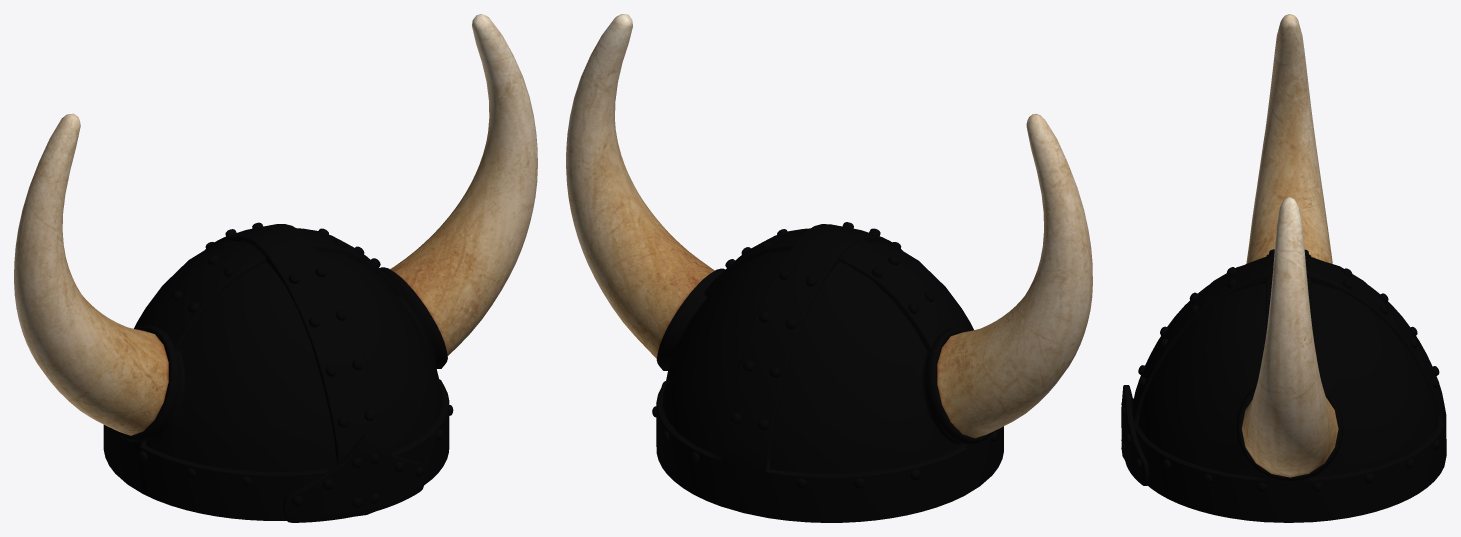
Rendered from Warrior.fbx.
3 renders of one model, left to right at view 1: azimuth 30°, elevation 25°; view 2: azimuth 150°, elevation 25°; view 3: azimuth 270°, elevation 25°, orthographic. The views are drawn at different scales.
Parts seen in each view (by area): view 1: node_id49; view 2: node_id49; view 3: node_id49.
Part boxes in pixels (x1,y1,x2,y2): node_id49: [14, 14, 537, 522]; node_id49: [566, 14, 1092, 522]; node_id49: [1121, 14, 1446, 522].
Size of the model in its own units: 0.512 by 0.3638 by 0.3055.
1 material, 1 textured.
